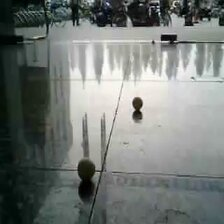w: (77, 158, 96, 182), (132, 96, 144, 111)
